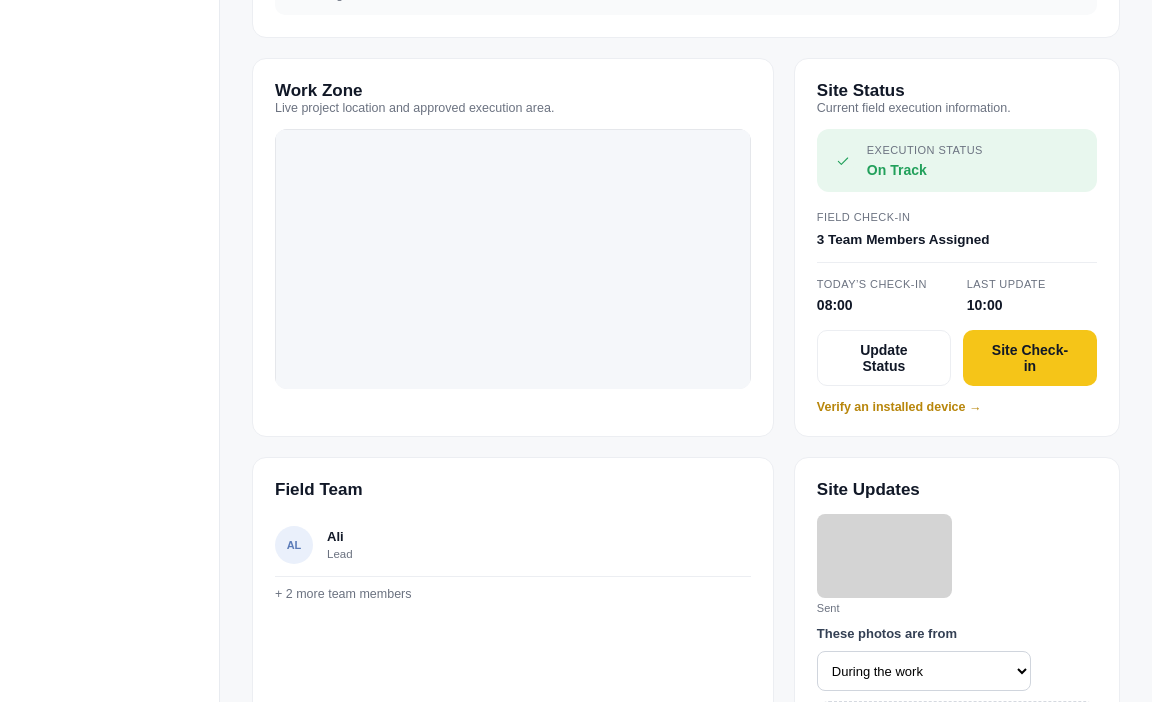
Test: FieldExecution - حالة الموقع والحضور › زر Update Status يفتح ويقفل الاختيار
This screenshot has width=1152, height=702.
(page scrolled)
Click the button "Update Status" at (884, 358), box [817, 330, 951, 386]
(page scrolled)
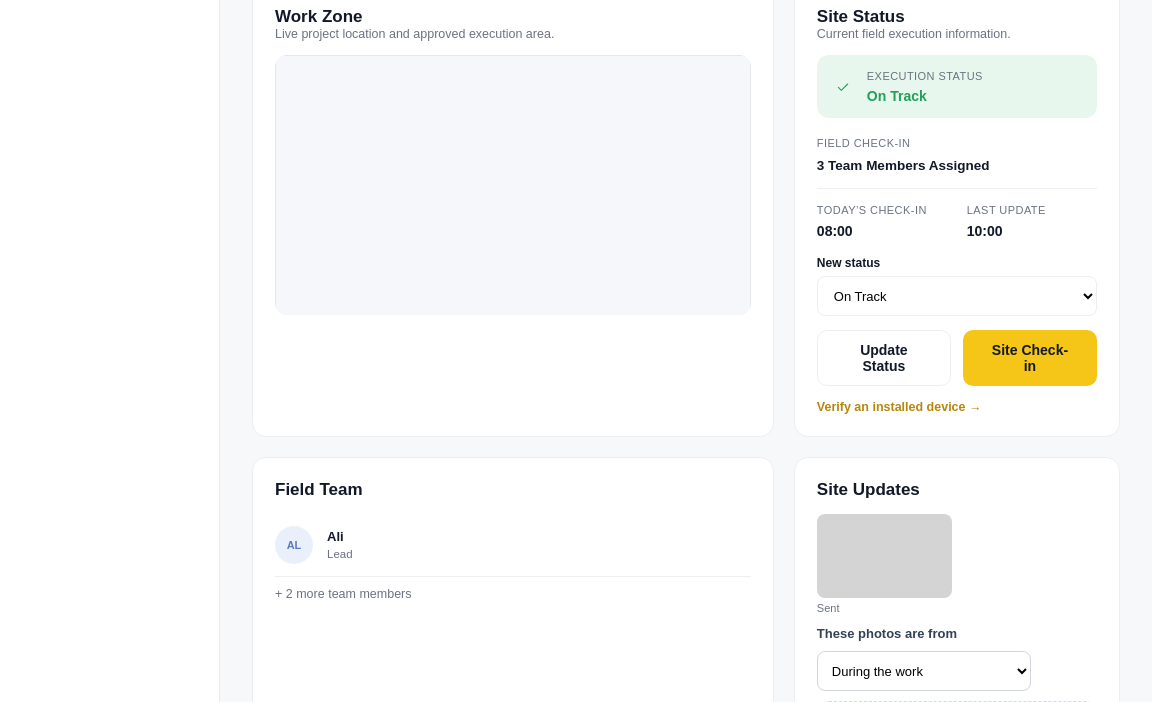
Expected: the dropdown labelled "New status" is shown, [817, 276, 1097, 316]
Click the button "Update Status" at (884, 358), box [817, 330, 951, 386]
(page scrolled)
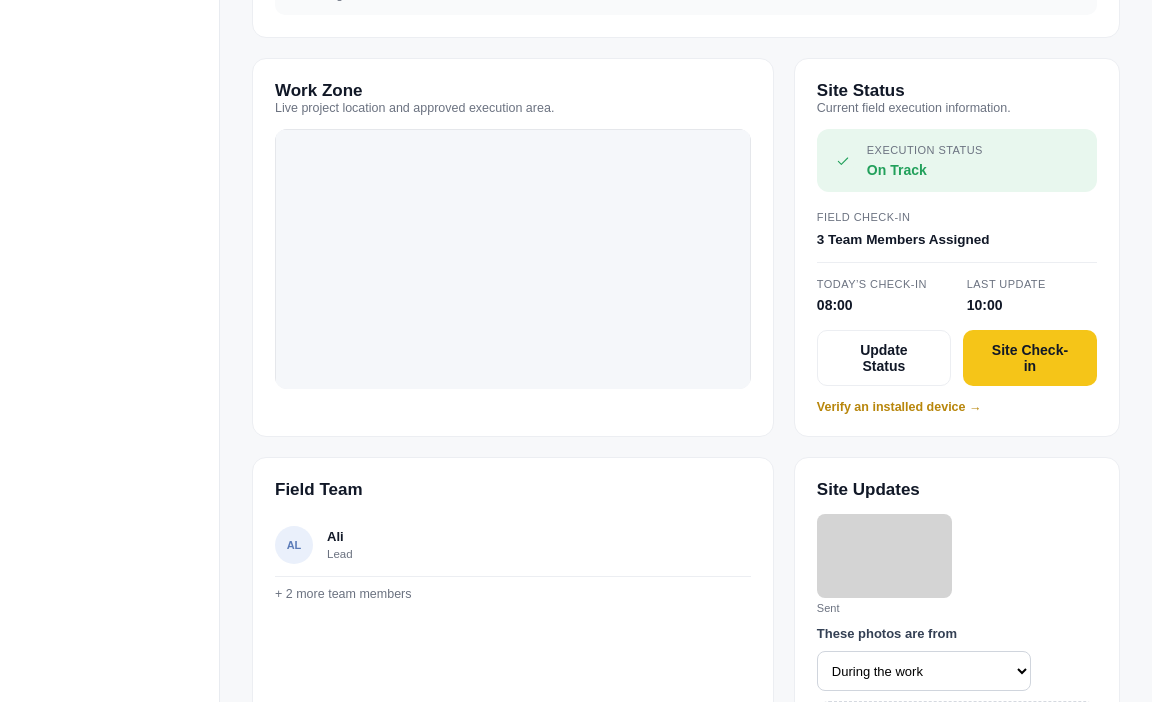
Expected: the label labelled "New status" is gone
